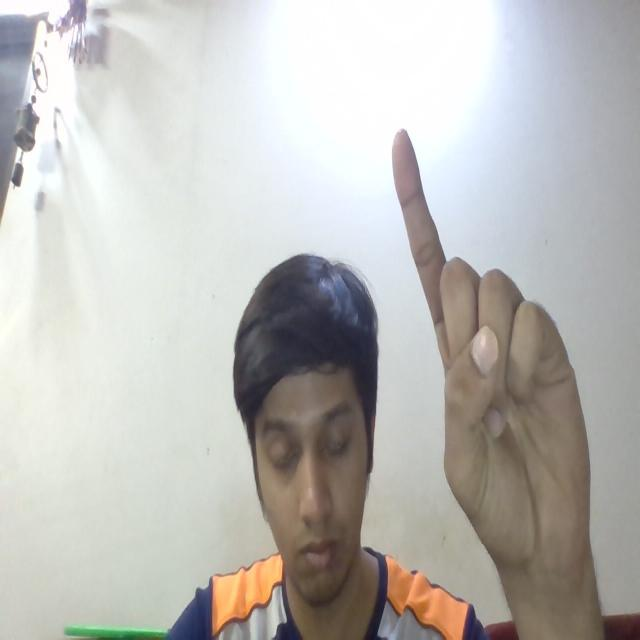Z: (383, 104, 624, 631)
